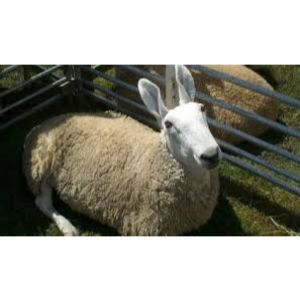sheep: (19, 72, 224, 233)
